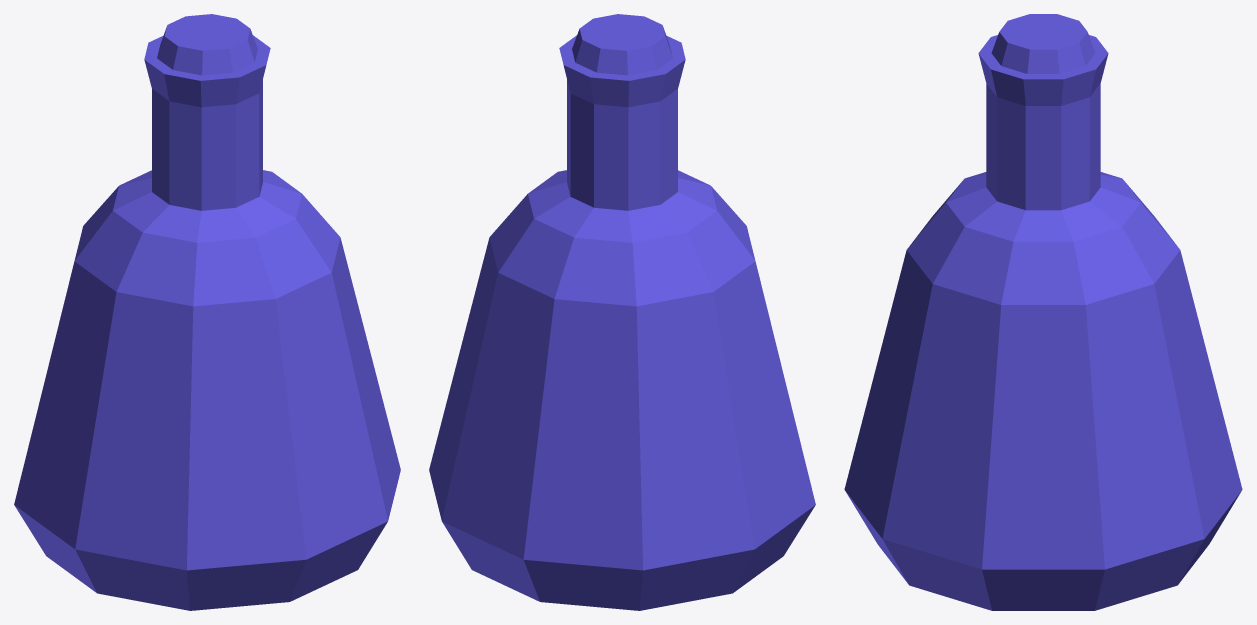
File: butelka.glb
3 renders of one model, left to right at view 1: azimuth 30°, elevation 25°; view 2: azimuth 150°, elevation 25°; view 3: azimuth 270°, elevation 25°, orthographic.
Visible parts, largest first — view 1: Cylinder.009; view 2: Cylinder.009; view 3: Cylinder.009.
Boxes of the visible parts, bbox=[...] form: Cylinder.009: bbox=[14, 14, 400, 610]; Cylinder.009: bbox=[429, 14, 815, 610]; Cylinder.009: bbox=[844, 14, 1242, 610].
Size of the model in its own units: 0.1163 by 0.1738 by 0.1223.
